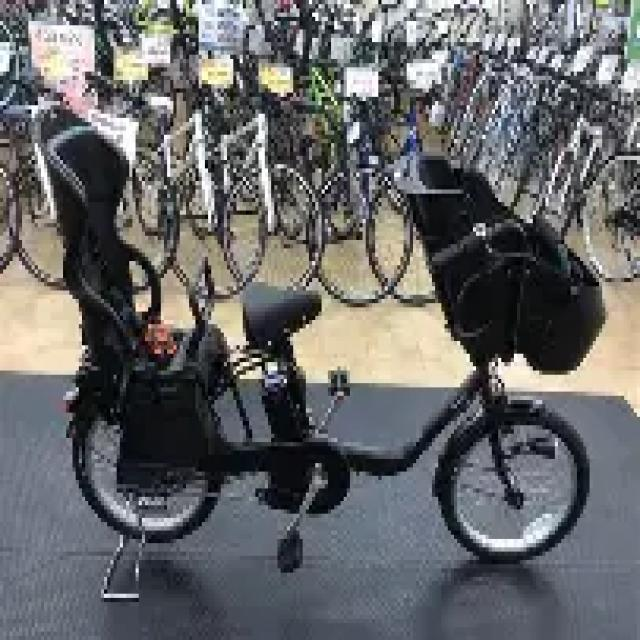battery: (256, 364, 308, 454)
childseat: (42, 124, 228, 497), (400, 153, 606, 373)
